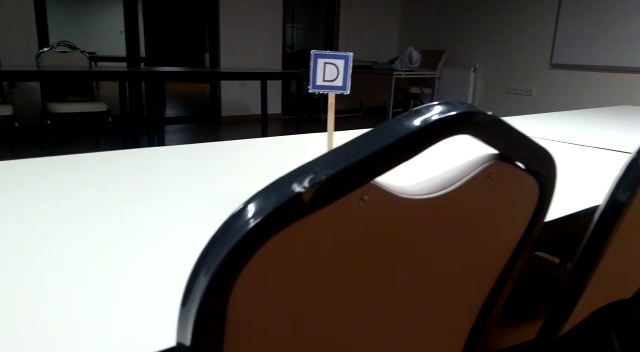durak: (310, 52, 351, 93)
